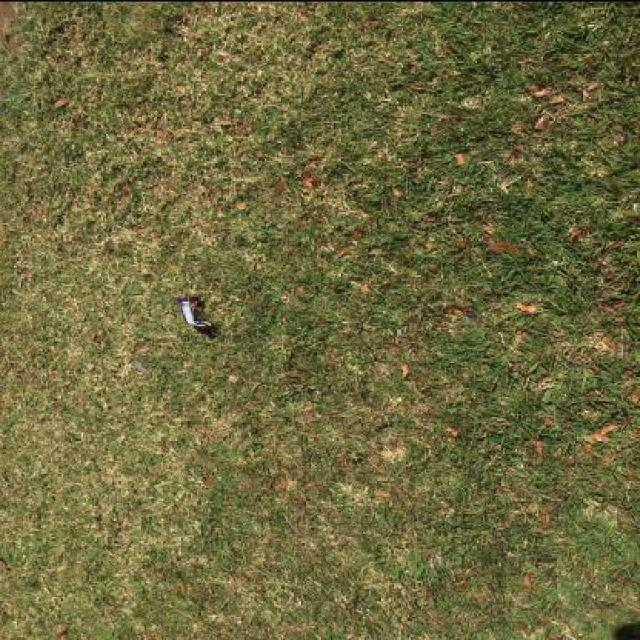plastic: (176, 294, 216, 328)
